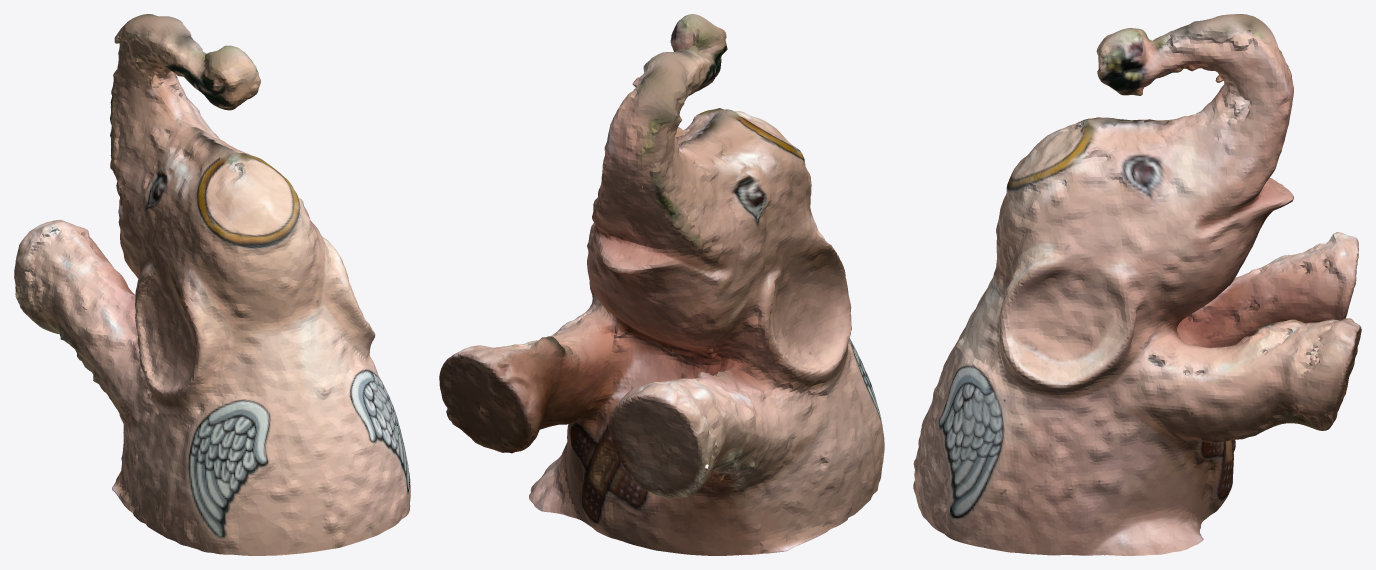
File: halfElephant.fbx
The picture shows the model from 3 angles, left to right: view 1: azimuth 30°, elevation 25°; view 2: azimuth 150°, elevation 25°; view 3: azimuth 270°, elevation 25°; orthographic projection. The views are drawn at different scales.
Visible parts, largest first — view 1: textured; view 2: textured; view 3: textured.
Boxes of the visible parts, bbox=[...] form: textured: bbox=[14, 14, 410, 555]; textured: bbox=[439, 14, 884, 555]; textured: bbox=[913, 14, 1361, 555].
Size of the model in its own units: 76.66 by 131 by 116.
Materials: 1 (1 with a texture image).
